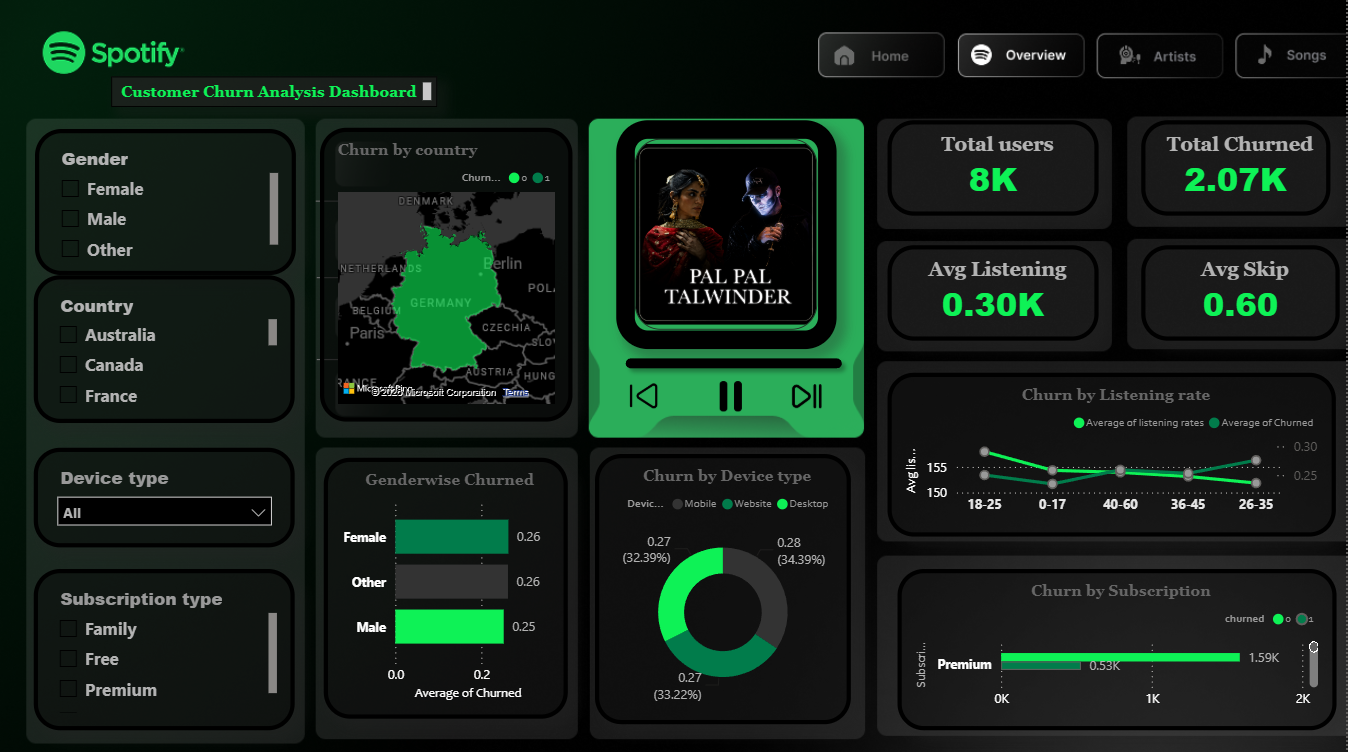

Layout of this report page (visuals, bound fields, positions):
{"tool":"powerbi","page":{"name":"Spotify dashbaord","canvas":[1280,720],"ordinal":0},"visuals":[{"type":"slicer","fields":{"Values":["spotify_churn_dataset.Gender"]},"box":[37.9,123.2,247.5,138.6],"z":0},{"type":"clusteredBarChart","title":"Churn by Subscription","fields":{"Category":["spotify_churn_dataset.Subscription mode"],"Y":["CountNonNull(spotify_churn_dataset.User id)"],"Series":["spotify_churn_dataset.Churned"]},"box":[855.1,540,415.7,152.8],"z":1000},{"type":"clusteredBarChart","title":"Genderwise Churned","fields":{"Category":["spotify_churn_dataset.Gender"],"Y":["Avg(spotify_churn_dataset.Churned)"]},"box":[311.5,434.6,230.9,247.5],"z":2000},{"type":"slicer","fields":{"Values":["spotify_churn_dataset.Country"]},"box":[36.7,261.7,247.5,139.7],"z":3000},{"type":"slicer","fields":{"Values":["spotify_churn_dataset.Devicemode"]},"box":[36.7,425.2,247.5,94.7],"z":4000},{"type":"slicer","fields":{"Values":["spotify_churn_dataset.Subscription mode"]},"box":[36.7,540,247.5,152.8],"z":5000},{"type":"donutChart","title":"Churn by Device type","fields":{"Y":["Avg(spotify_churn_dataset.Churned)"],"Category":["spotify_churn_dataset.Devicemode"]},"box":[568.5,431.1,242.8,255.8],"z":6000},{"type":"lineChart","title":"Churn by Listening rate","fields":{"Y":["Avg(spotify_churn_dataset.listening rates)"],"Category":["spotify_churn_dataset.Age groups"],"Y2":["Avg(spotify_churn_dataset.Churned)"]},"box":[845.6,354.1,425.2,155.1],"z":7000},{"type":"kpi","title":"Total users","fields":{"Indicator":["Sum(spotify_churn_dataset.User id)"],"TrendLine":["spotify_churn_dataset.User id"]},"box":[845.6,114.9,200.1,90],"z":8000},{"type":"kpi","title":"Total Churned","fields":{"Indicator":["Sum(spotify_churn_dataset.Churned)"],"TrendLine":["spotify_churn_dataset.Churned"]},"box":[1086,114.9,178.8,90],"z":9000},{"type":"kpi","title":"Avg Listening","fields":{"Indicator":["Avg(spotify_churn_dataset.listening rates)"],"TrendLine":["spotify_churn_dataset.listening rates"]},"box":[845.6,233.3,200.1,90],"z":10000},{"type":"kpi","title":"Avg Skip","fields":{"Indicator":["Avg(spotify_churn_dataset.Skiprates)"],"TrendLine":["spotify_churn_dataset.Skiprates"]},"box":[1086,233.3,188.3,90],"z":11000},{"type":"textbox","box":[110.1,73.4,309.1,28.4],"z":12000},{"type":"filledMap","title":"Churn by country","fields":{"Category":["spotify_churn_dataset.Country"],"Series":["spotify_churn_dataset.Churned"]},"box":[307.9,122,239.2,278.3],"z":13000},{"type":"image","box":[588.6,114.9,208.4,216.7],"z":14000},{"type":"shape","box":[588.6,331.6,222.6,27.2],"z":15000},{"type":"image","box":[676.2,360,41.5,33.2],"z":16000},{"type":"image","box":[588.6,358.8,52.1,34.3],"z":17000},{"type":"image","box":[728.3,361.2,81.7,30.8],"z":18000}]}

Visuals, with their boxes in screenshot pixels (x1, y1, x2, y2), scaled from the page's 1280x720 canvas onto the 1348x752 screenshot:
slicer - spotify_churn_dataset.Gender: [40, 129, 301, 273]
"Churn by Subscription" clusteredBarChart: [901, 564, 1338, 724]
"Genderwise Churned" clusteredBarChart: [328, 454, 571, 712]
slicer - spotify_churn_dataset.Country: [39, 273, 299, 419]
slicer - spotify_churn_dataset.Devicemode: [39, 444, 299, 543]
slicer - spotify_churn_dataset.Subscription mode: [39, 564, 299, 724]
"Churn by Device type" donutChart: [599, 450, 854, 717]
"Churn by Listening rate" lineChart: [891, 370, 1338, 532]
"Total users" kpi: [891, 120, 1101, 214]
"Total Churned" kpi: [1144, 120, 1332, 214]
"Avg Listening" kpi: [891, 244, 1101, 338]
"Avg Skip" kpi: [1144, 244, 1342, 338]
textbox: [116, 77, 441, 106]
"Churn by country" filledMap: [324, 127, 576, 418]
image: [620, 120, 839, 346]
shape: [620, 346, 854, 375]
image: [712, 376, 756, 411]
image: [620, 375, 675, 411]
image: [767, 377, 853, 409]
